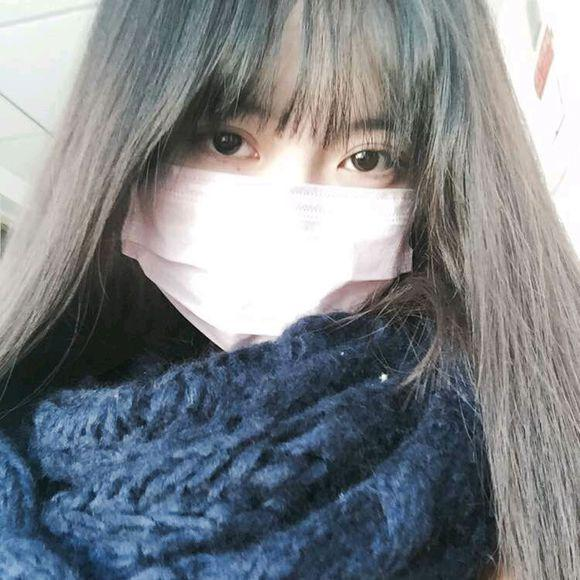OK: (147, 79, 433, 365)
